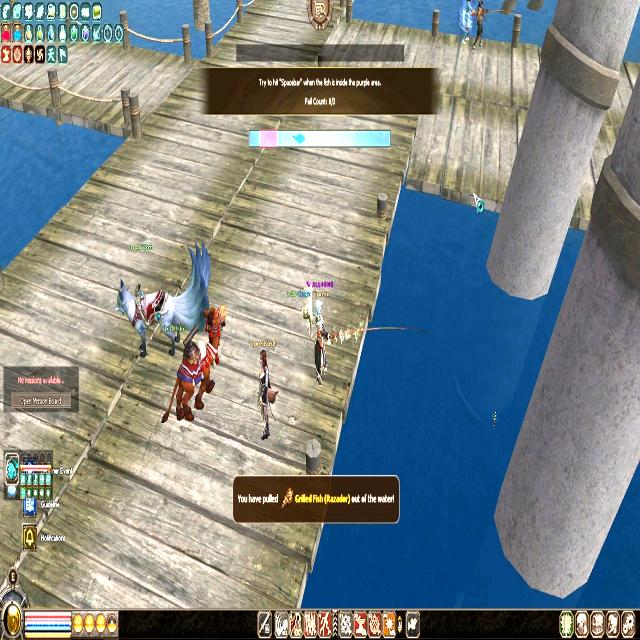box: (259, 131, 277, 147)
fishes: (293, 133, 305, 142)
